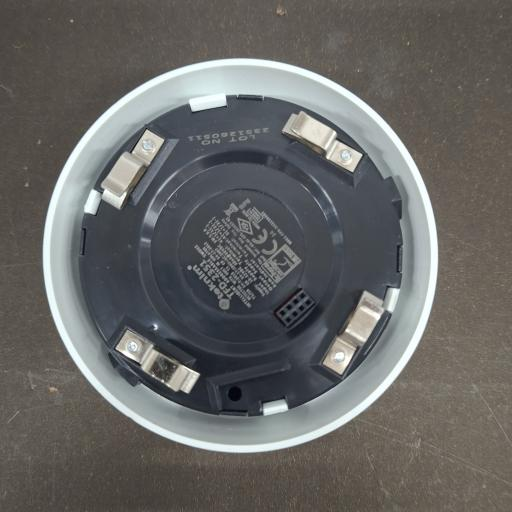yayli: (114, 328, 202, 396), (321, 288, 387, 376), (100, 129, 166, 212), (284, 111, 363, 174)
